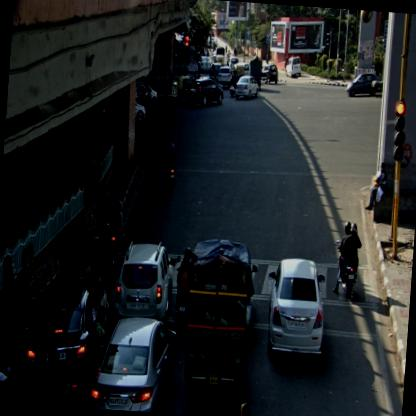car: (89, 314, 178, 413), (24, 283, 98, 402), (262, 255, 328, 366), (109, 237, 177, 321), (186, 78, 224, 112), (344, 72, 378, 100), (233, 74, 260, 100), (134, 84, 158, 106), (284, 54, 302, 80), (260, 63, 279, 86), (216, 65, 231, 89), (198, 53, 212, 70)
motorcycle: (331, 219, 364, 300), (170, 243, 194, 329), (93, 224, 118, 300), (0, 341, 15, 403), (162, 142, 178, 194), (228, 71, 238, 99)
truck: (182, 236, 252, 400), (248, 56, 263, 88)
